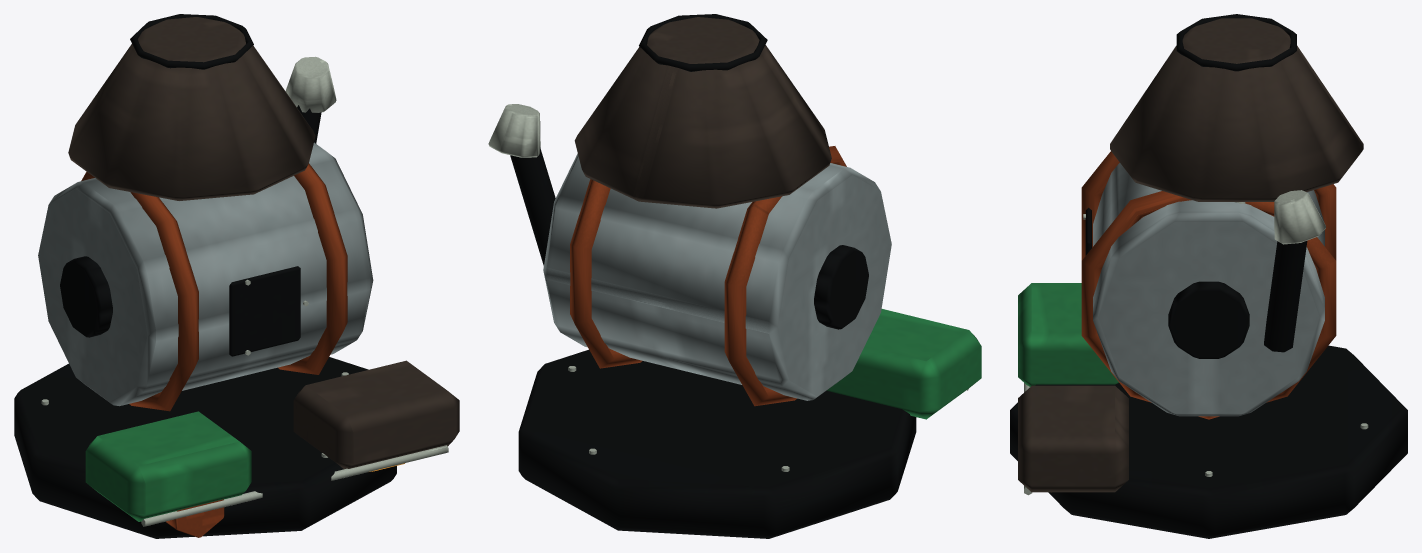
The model's file is processor-low.glb.
3 views of the same model, side by side, from view 1: azimuth 30°, elevation 25°; view 2: azimuth 150°, elevation 25°; view 3: azimuth 270°, elevation 25° (orthographic). The views are drawn at different scales.
Visible parts, largest first — view 1: ANIM_DRUM.001, Processor_Hopper.001, Processor_Base.001, STATE_EARTH_TRAY.001, STATE_DUST_TRAY.001, Processor_Access_Panel.001, Processor_Drum_Ring_A.001, Processor_Drum_Ring_B.001, Processor_Bearing_-1.001, Processor_Exhaust_Shroud.001, Processor_Tray_Rail.001, Processor_Hopper_Rim.001 (+1 smaller); view 2: Processor_Base.001, ANIM_DRUM.001, Processor_Hopper.001, STATE_EARTH_TRAY.001, Processor_Drum_Ring_A.001, Processor_Drum_Ring_B.001, Processor_Bearing_-1.001, Processor_Exhaust.001, Processor_Exhaust_Shroud.001, Processor_Hopper_Rim.001; view 3: Processor_Base.001, ANIM_DRUM.001, Processor_Hopper.001, STATE_DUST_TRAY.001, STATE_EARTH_TRAY.001, Processor_Drum_Ring_B.001, Processor_Bearing_1.001, Processor_Exhaust.001, Processor_Drum_Ring_A.001, Processor_Exhaust_Shroud.001, Processor_Hopper_Rim.001.
Part boxes in pixels (x1=…): ANIM_DRUM.001: x1=38, y1=142, x2=373, y2=406; Processor_Hopper.001: x1=68, y1=17, x2=315, y2=200; Processor_Base.001: x1=14, y1=357, x2=396, y2=538; STATE_EARTH_TRAY.001: x1=85, y1=411, x2=251, y2=521; STATE_DUST_TRAY.001: x1=293, y1=360, x2=459, y2=469; Processor_Access_Panel.001: x1=229, y1=266, x2=300, y2=356; Processor_Drum_Ring_A.001: x1=81, y1=171, x2=198, y2=411; Processor_Drum_Ring_B.001: x1=278, y1=163, x2=347, y2=374; Processor_Bearing_-1.001: x1=60, y1=256, x2=112, y2=337; Processor_Exhaust_Shroud.001: x1=285, y1=56, x2=336, y2=112; Processor_Tray_Rail.001: x1=141, y1=445, x2=448, y2=526; Processor_Hopper_Rim.001: x1=130, y1=14, x2=253, y2=69; Processor_Base.001: x1=518, y1=349, x2=916, y2=538; ANIM_DRUM.001: x1=543, y1=153, x2=891, y2=400; Processor_Hopper.001: x1=574, y1=17, x2=831, y2=208; STATE_EARTH_TRAY.001: x1=826, y1=309, x2=981, y2=419; Processor_Drum_Ring_A.001: x1=724, y1=146, x2=846, y2=406; Processor_Drum_Ring_B.001: x1=570, y1=179, x2=642, y2=368; Processor_Bearing_-1.001: x1=814, y1=245, x2=868, y2=329; Processor_Exhaust.001: x1=510, y1=147, x2=555, y2=265; Processor_Exhaust_Shroud.001: x1=488, y1=104, x2=540, y2=157; Processor_Hopper_Rim.001: x1=639, y1=14, x2=767, y2=71; Processor_Base.001: x1=1010, y1=345, x2=1407, y2=538; ANIM_DRUM.001: x1=1093, y1=163, x2=1324, y2=416; Processor_Hopper.001: x1=1110, y1=18, x2=1363, y2=201; STATE_DUST_TRAY.001: x1=1018, y1=385, x2=1128, y2=492; STATE_EARTH_TRAY.001: x1=1018, y1=283, x2=1118, y2=386; Processor_Drum_Ring_B.001: x1=1081, y1=191, x2=1336, y2=419; Processor_Bearing_1.001: x1=1168, y1=281, x2=1249, y2=358; Processor_Exhaust.001: x1=1264, y1=241, x2=1307, y2=352; Processor_Drum_Ring_A.001: x1=1081, y1=151, x2=1336, y2=260; Processor_Exhaust_Shroud.001: x1=1274, y1=190, x2=1325, y2=244; Processor_Hopper_Rim.001: x1=1176, y1=14, x2=1296, y2=71.
Size of the model in its own units: 1.15 by 1.33 by 1.14.
7 materials, 7 textured.
